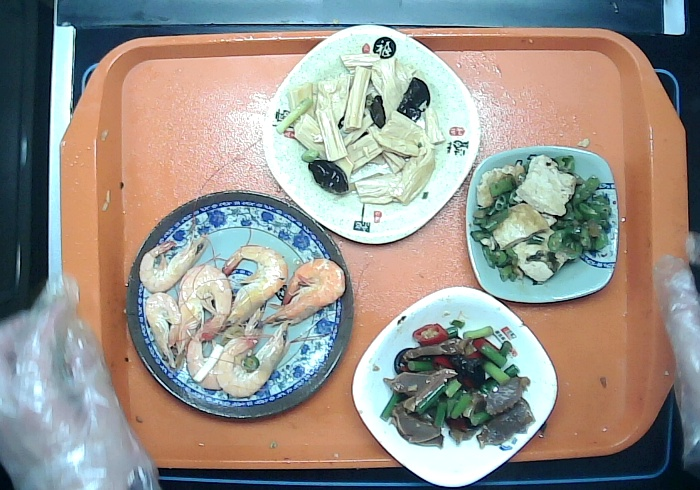NLDX-Bai_Se_Xiao_Fang_Die: (348, 282, 568, 490)
NLDX-Fu_Zi_Fang_Die: (255, 22, 491, 254)
NLDX-Qing_Hua_Xiao_Fang_Die: (460, 142, 625, 305)
NLDX-Qing_Hua_Yuan_Die: (118, 185, 361, 424)
